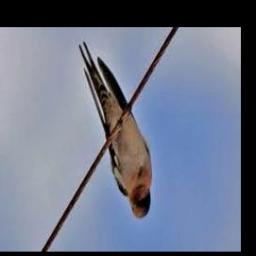Swallow: (79, 42, 153, 219)
